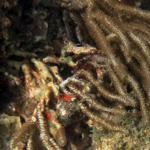alive: (7, 8, 148, 147)
